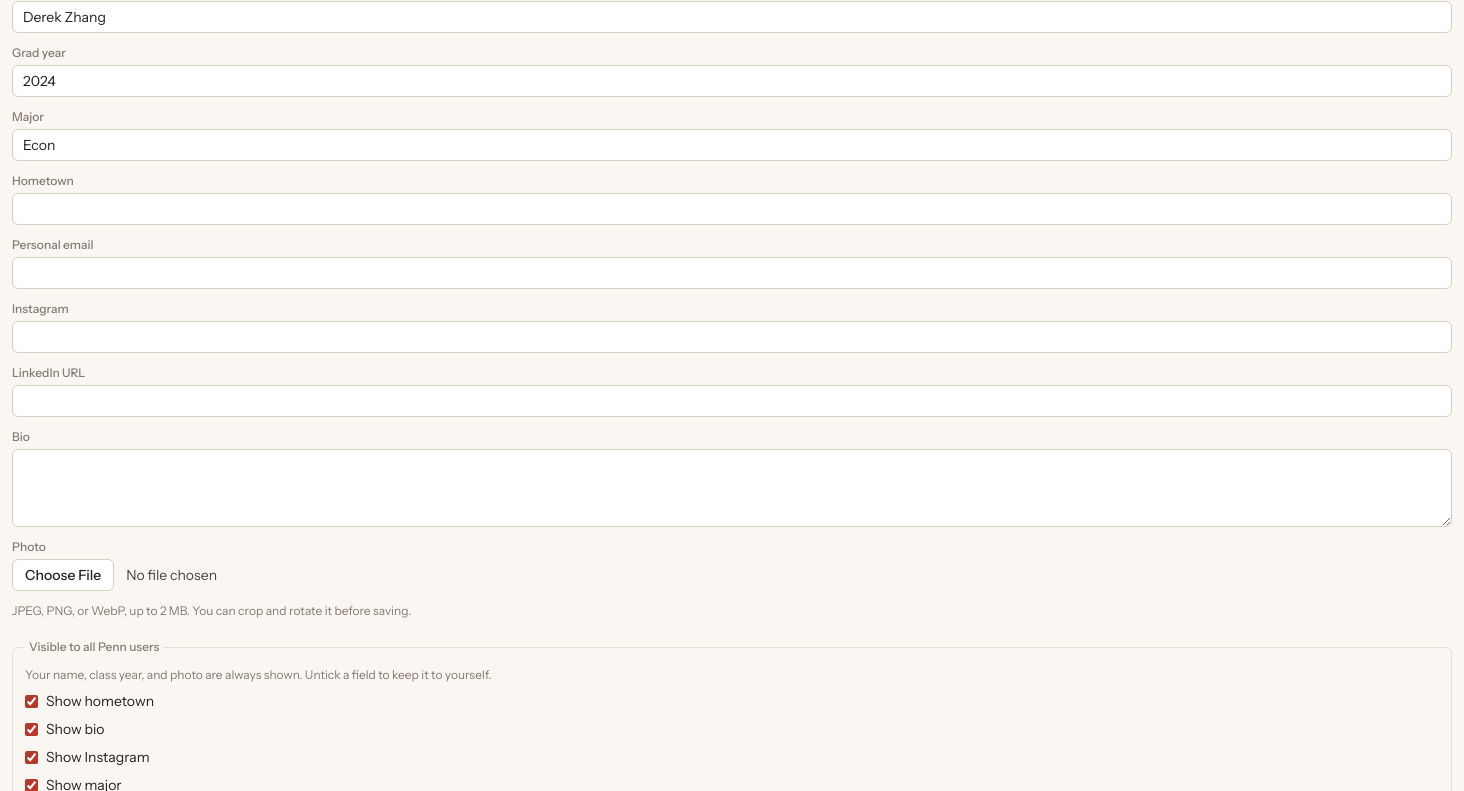
ProfileEditor › rejects a non-LinkedIn link and a bad handle before saving
Type "javascript:alert(1)" into the field labelled "LinkedIn URL".
click(732, 401); type("javascript:alert(1)")  # box x1=12 y1=385 x2=1452 y2=417
(page scrolled)
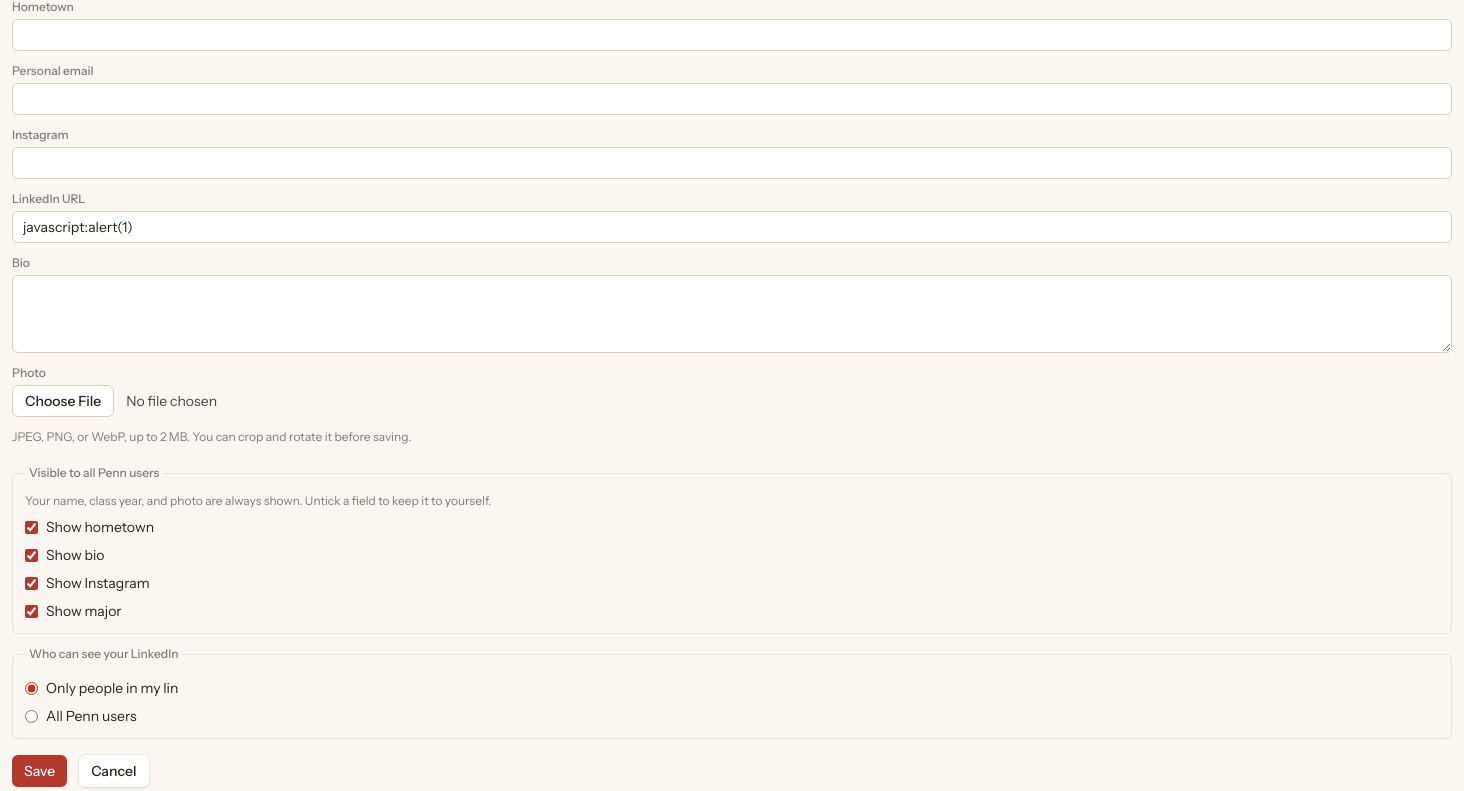
Click the button "Save".
click(40, 771)  # box x1=12 y1=755 x2=67 y2=787
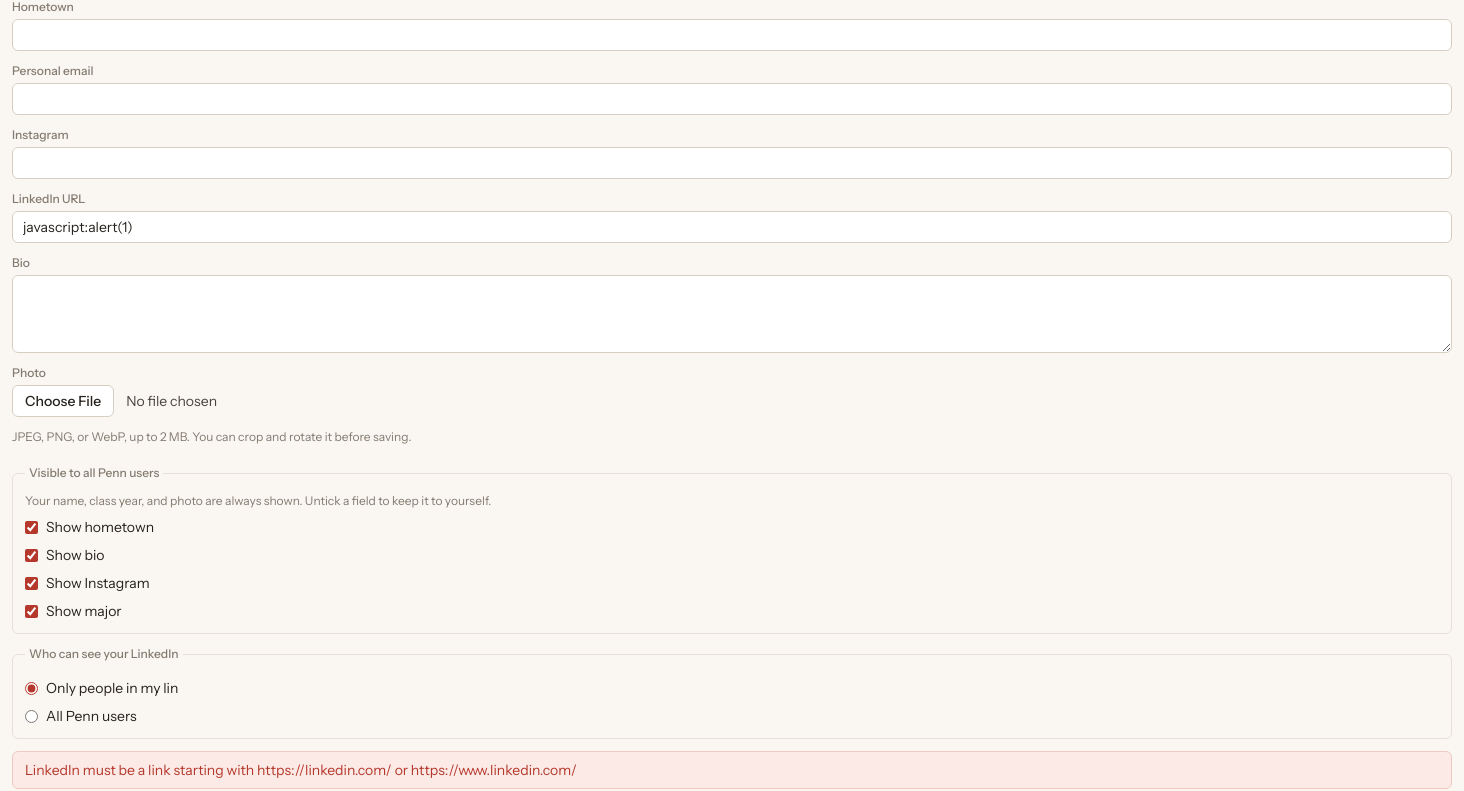
Expected: the message shows "LinkedIn", x1=25 y1=761 x2=577 y2=779
Clear the field labelled "LinkedIn URL" at (732, 227), box x1=12 y1=211 x2=1452 y2=243
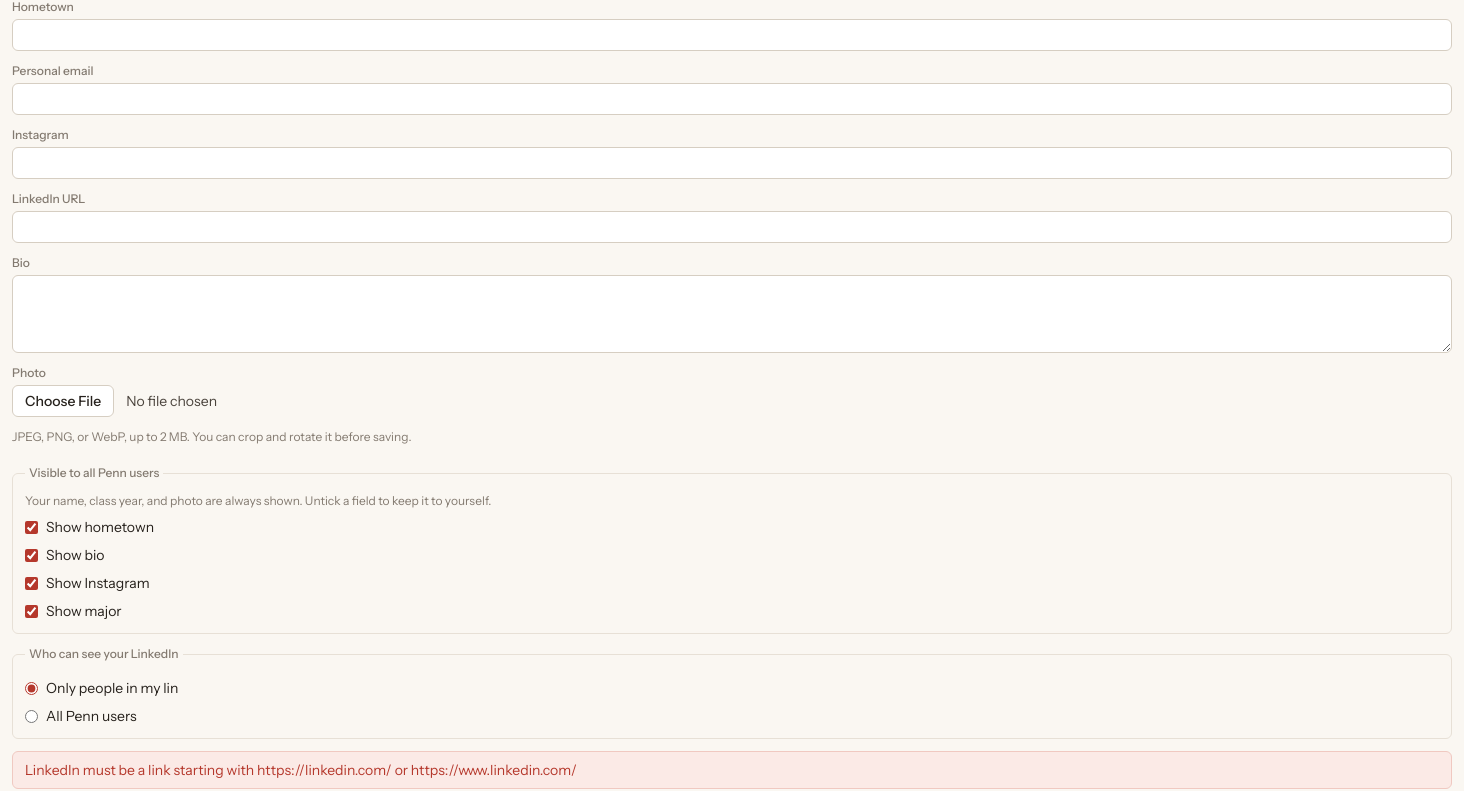
Type "not a handle" into the field labelled "Instagram".
click(732, 163); type("not a handle")  # box x1=12 y1=147 x2=1452 y2=179
(page scrolled)
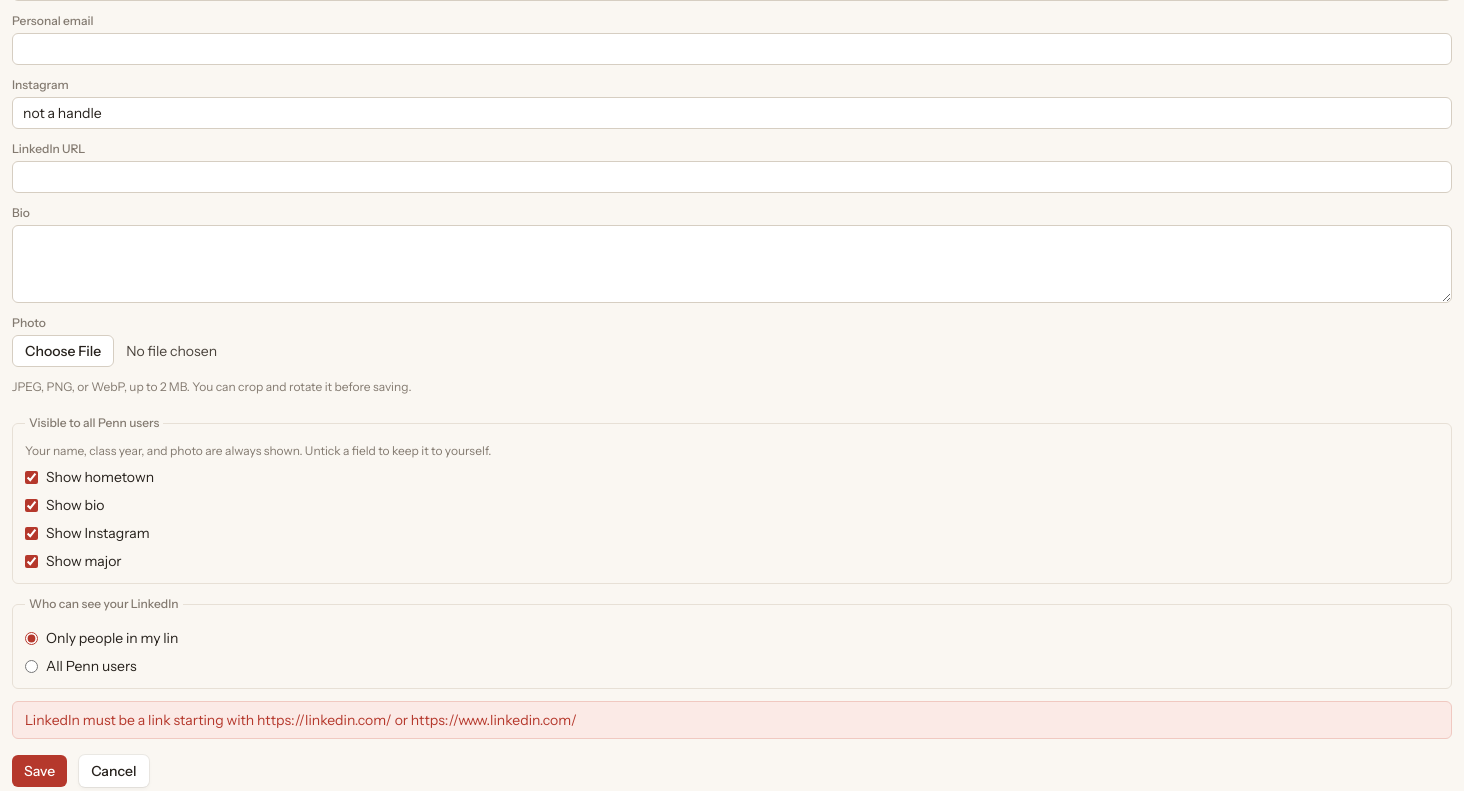
Click the button "Save".
click(40, 771)  # box x1=12 y1=755 x2=67 y2=787
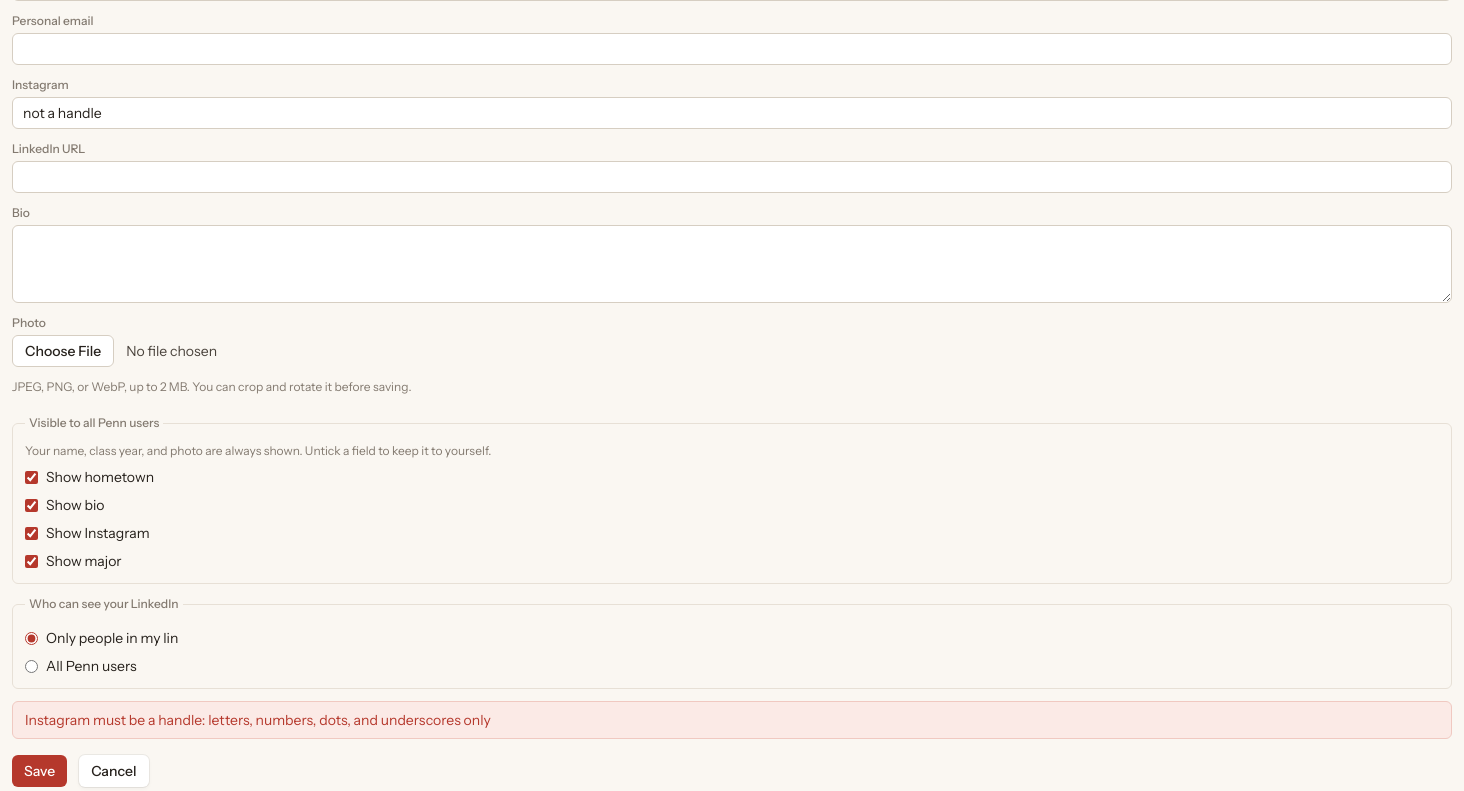
Expected: the message shows "Instagram", x1=25 y1=711 x2=491 y2=729
